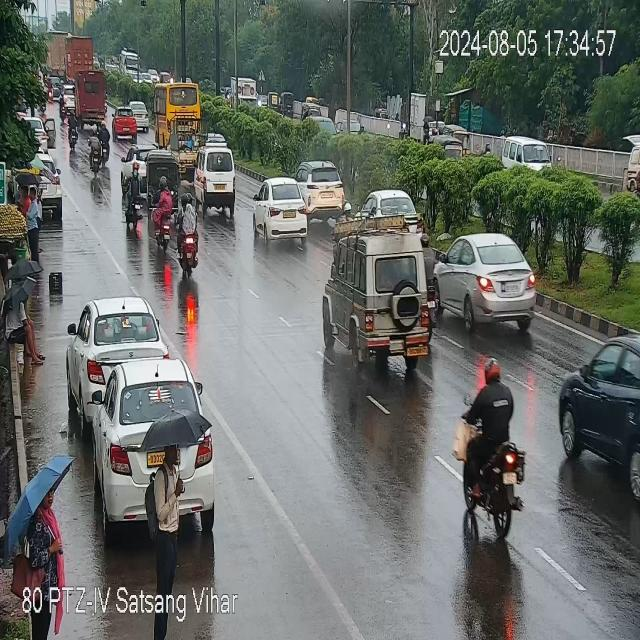2-wheelers: (458, 364, 518, 506), (174, 194, 202, 278), (152, 183, 174, 241), (125, 168, 142, 228)
auto: (145, 151, 179, 205)
car: (92, 362, 211, 528), (320, 231, 435, 366), (557, 331, 640, 504), (434, 232, 538, 334), (70, 295, 168, 401), (253, 178, 310, 244), (355, 188, 423, 236), (19, 153, 67, 215), (296, 158, 345, 216), (197, 140, 236, 211), (115, 112, 138, 141), (128, 103, 149, 131)
pedestrian: (146, 439, 184, 628), (27, 482, 61, 636), (0, 255, 46, 368), (23, 189, 43, 264)
truck: (153, 82, 203, 149), (74, 73, 106, 121)
